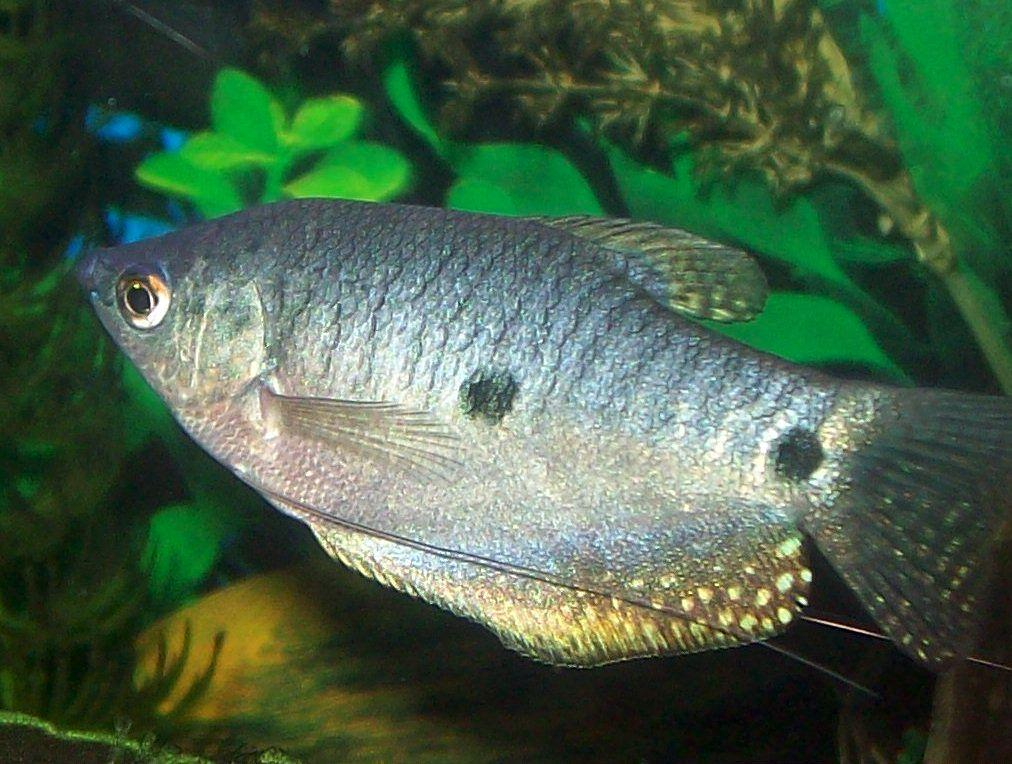Gourami: (65, 196, 1012, 718)
